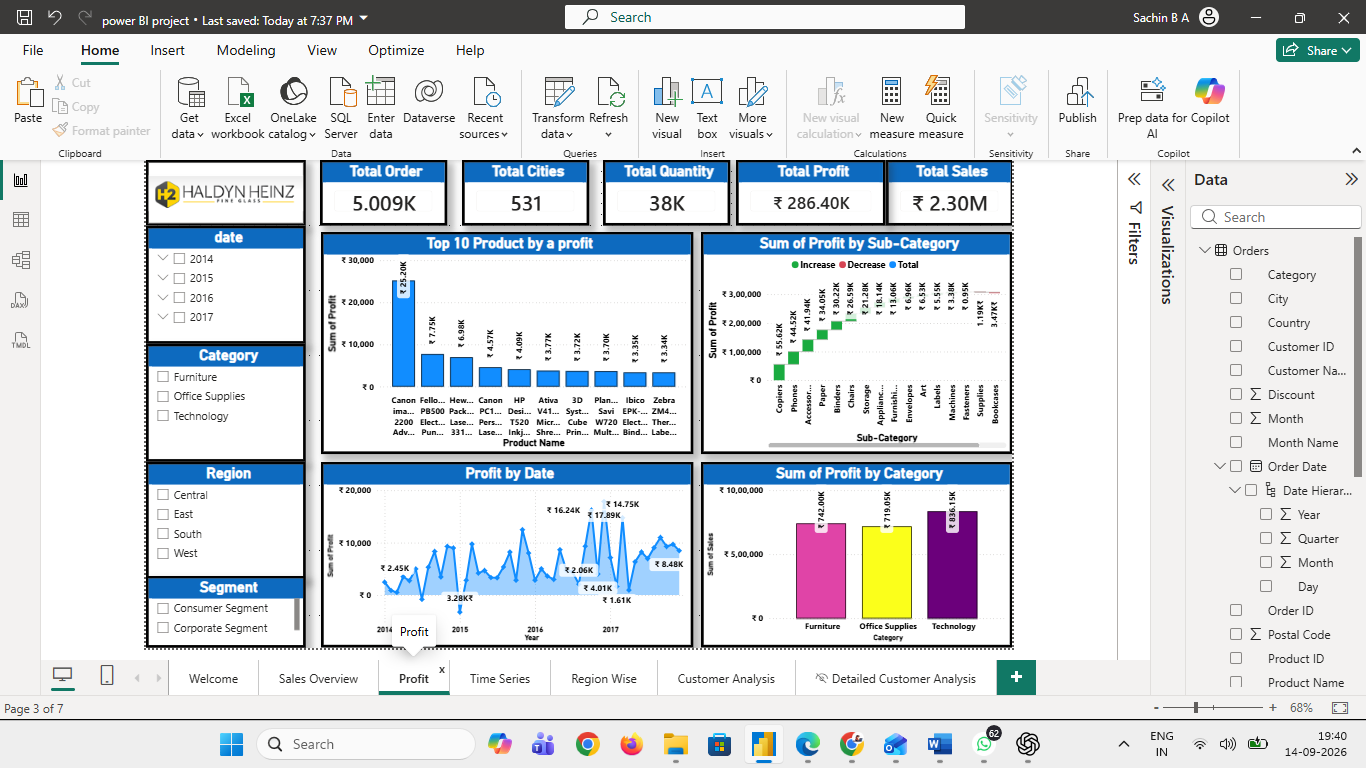

Layout of this report page (visuals, bound fields, positions):
{"tool":"powerbi","page":{"name":"Profit","canvas":[1280,720],"ordinal":2},"visuals":[{"type":"image","box":[0,0,236.3,97.5],"z":0},{"type":"cardVisual","title":"Total Sales","fields":{"Data":["Sum(Orders.Sales)"]},"box":[1092.4,0,187.6,97.5],"z":1000},{"type":"cardVisual","title":"Total Quantity","fields":{"Data":["Sum(Orders.Quantity)"]},"box":[675.2,0,187.6,97.5],"z":2000},{"type":"cardVisual","title":"Total Profit","fields":{"Data":["Sum(Orders.Profit)"]},"box":[871.4,0,221.4,97.1],"z":3000},{"type":"cardVisual","title":"Total Order","fields":{"Data":["Count(Orders.Order ID)"]},"box":[257.6,0,187.6,97.5],"z":4000},{"type":"cardVisual","title":"Total Cities","fields":{"Data":["Count(Orders.City)"]},"box":[466.4,0,187.6,97.5],"z":5000},{"type":"slicer","title":"date","fields":{"Values":["Orders.Order Date.Variation.Date Hierarchy.Year","Orders.Order Date.Variation.Date Hierarchy.Quarter","Orders.Order Date.Variation.Date Hierarchy.Month","Orders.Order Date.Variation.Date Hierarchy.Day"]},"box":[0,97.5,236.3,174.3],"z":6000},{"type":"slicer","title":"Category","fields":{"Values":["Orders.Category"]},"box":[0,271.8,236.3,174.3],"z":7000},{"type":"slicer","title":"Region","fields":{"Values":["Orders.Region"]},"box":[0,446,236.3,174.3],"z":8000},{"type":"slicer","title":"Segment","fields":{"Values":["Orders.Segment"]},"box":[0,613.7,236.3,106.3],"z":9000},{"type":"clusteredColumnChart","title":"Top 10 Product by a profit","fields":{"Category":["Orders.Product Name"],"Y":["Sum(Orders.Profit)"]},"box":[258.3,106.7,550,328.3],"z":10000},{"type":"waterfallChart","fields":{"Category":["Orders.Sub-Category"],"Y":["Sum(Orders.Profit)"]},"box":[820,106.7,460,328.3],"z":11000},{"type":"areaChart","title":"Profit by Date","fields":{"Category":["Orders.Order Date.Variation.Date Hierarchy.Year","Orders.Order Date.Variation.Date Hierarchy.Quarter","Orders.Order Date.Variation.Date Hierarchy.Month","Orders.Order Date.Variation.Date Hierarchy.Day"],"Y":["Sum(Orders.Profit)"]},"box":[258,446,550,274],"z":12000},{"type":"clusteredColumnChart","title":"Sum of Profit by Category","fields":{"Category":["Orders.Category","Orders.Sub-Category","Orders.Product Name"],"Y":["Sum(Orders.Sales)"]},"box":[820,446,460,274],"z":13000}]}

Visuals, with their boxes on the page's 1280x720 design canvas (x1, y1, x2, y2). These are canvas units, not pixel positions in the 1366x768 screenshot, which may show the page scaled, cropped or inside an application window:
image: 0, 0, 236, 98
"Total Sales" cardVisual: 1092, 0, 1280, 98
"Total Quantity" cardVisual: 675, 0, 863, 98
"Total Profit" cardVisual: 871, 0, 1093, 97
"Total Order" cardVisual: 258, 0, 445, 98
"Total Cities" cardVisual: 466, 0, 654, 98
"date" slicer: 0, 98, 236, 272
"Category" slicer: 0, 272, 236, 446
"Region" slicer: 0, 446, 236, 620
"Segment" slicer: 0, 614, 236, 720
"Top 10 Product by a profit" clusteredColumnChart: 258, 107, 808, 435
waterfallChart - Orders.Sub-Category x Sum(Orders.Profit): 820, 107, 1280, 435
"Profit by Date" areaChart: 258, 446, 808, 720
"Sum of Profit by Category" clusteredColumnChart: 820, 446, 1280, 720
